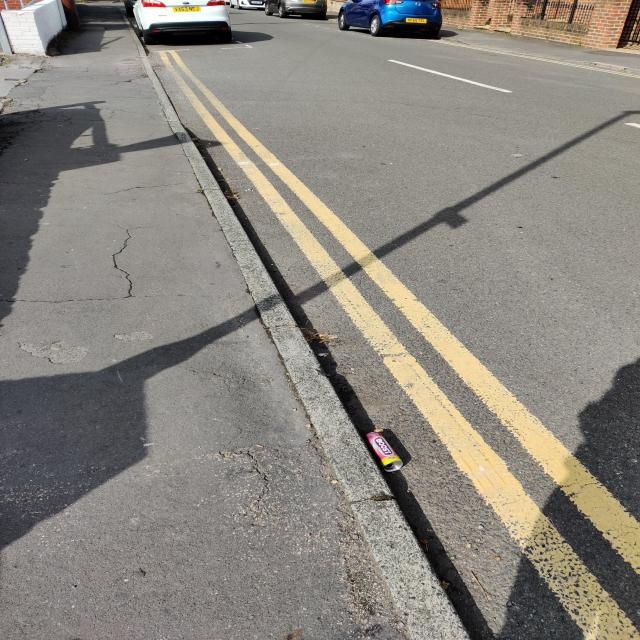litter: (362, 430, 404, 474)
